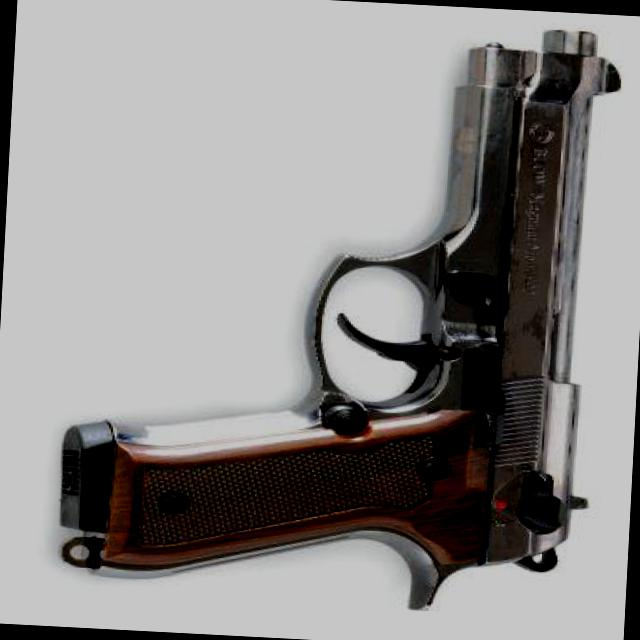handgun: (55, 1, 629, 616)
